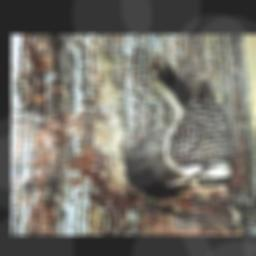Woodpecker: (146, 62, 234, 189)
